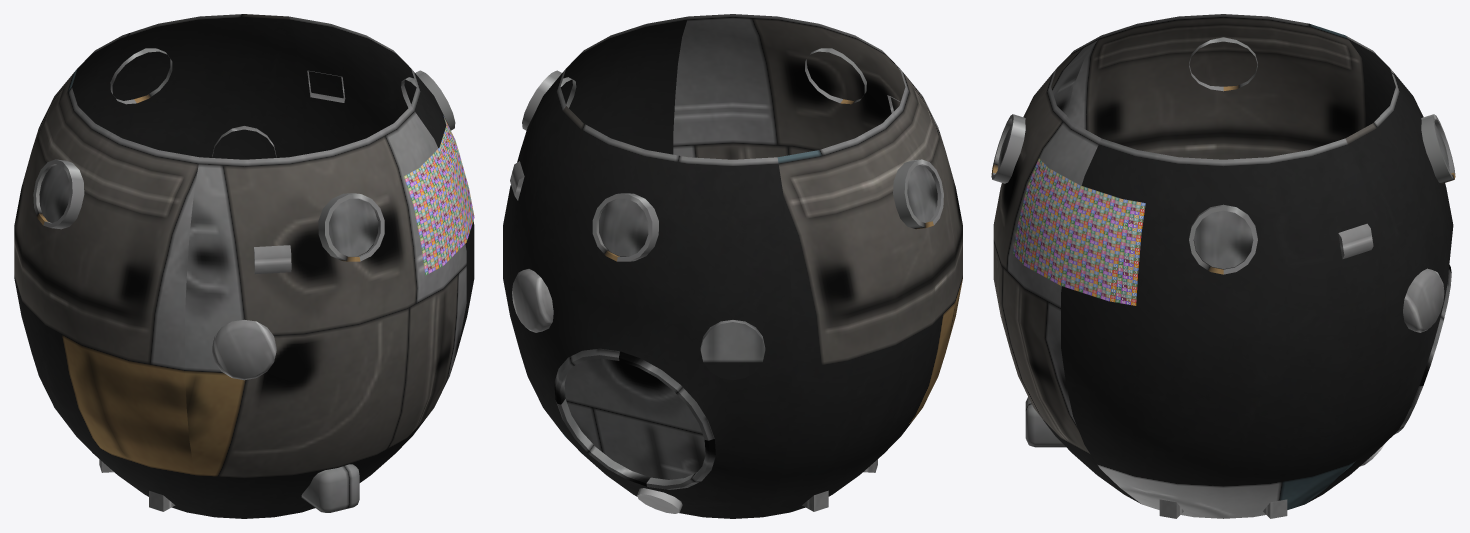
File: orbital_module_gen_1.fbx
The picture shows the model from 3 angles, left to right: view 1: azimuth 30°, elevation 25°; view 2: azimuth 150°, elevation 25°; view 3: azimuth 270°, elevation 25°; orthographic projection.
Parts seen in each view (by area): view 1: mesh, flag, windows; view 2: mesh, windows; view 3: mesh, flag, windows.
Part boxes in pixels (x1,y1,x2,y2): mesh: (14, 14, 474, 518); flag: (404, 116, 474, 275); windows: (39, 164, 378, 256); mesh: (503, 14, 962, 518); windows: (599, 165, 937, 256); mesh: (991, 14, 1455, 518); flag: (1012, 158, 1145, 305); windows: (998, 124, 1449, 269).
Size of the model in its own units: 1.26 by 1.15 by 1.26.
